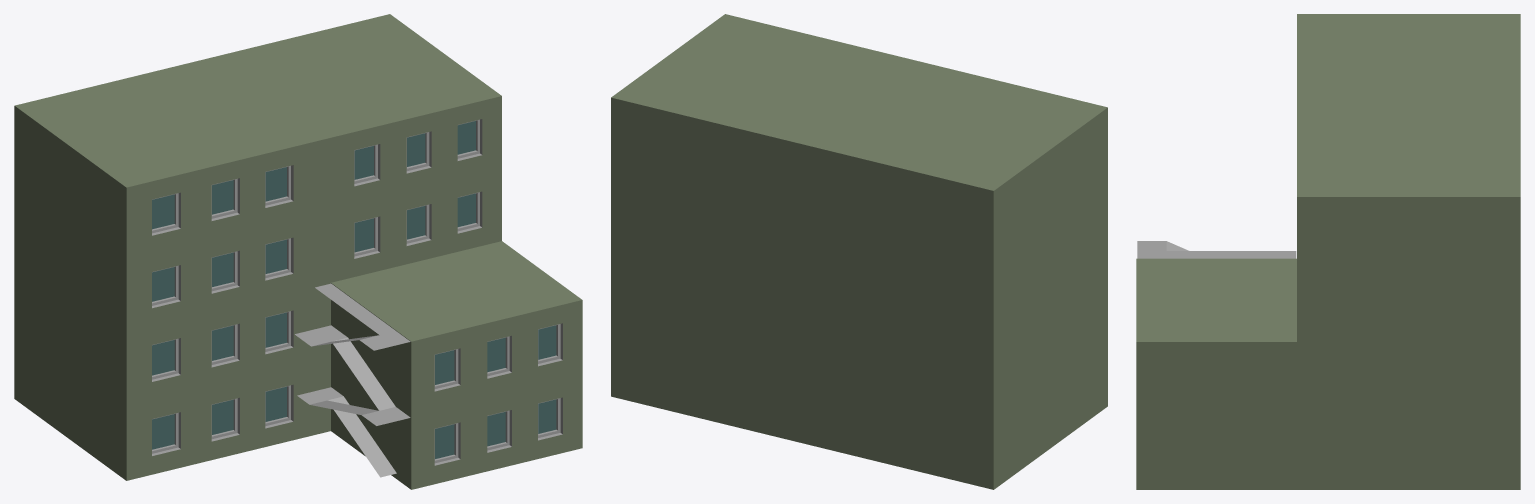
Rendered from 5Floor 1.fbx.
3 renders of one model, left to right at view 1: azimuth 30°, elevation 25°; view 2: azimuth 150°, elevation 25°; view 3: azimuth 270°, elevation 25°, orthographic. The views are drawn at different scales.
Visible parts, largest first — view 1: Build2, StairsMesh; view 2: Build2; view 3: Build2, StairsMesh.
Part boxes in pixels (bbox=[...]): Build2: bbox=[14, 14, 582, 489]; StairsMesh: bbox=[295, 283, 410, 477]; Build2: bbox=[611, 14, 1107, 489]; Build2: bbox=[1136, 14, 1520, 489]; StairsMesh: bbox=[1137, 241, 1296, 258].
Size of what is drawn, in the model's own units: 1.03 by 0.7722 by 0.9183.
